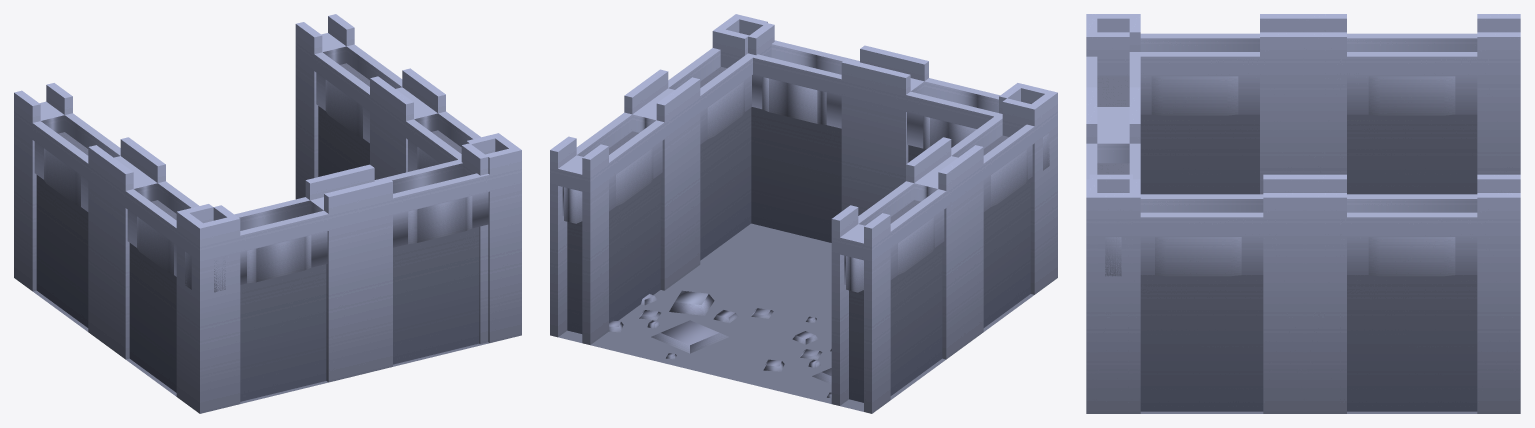
File: Tile_14.glb
3 renders of one model, left to right at view 1: azimuth 30°, elevation 25°; view 2: azimuth 150°, elevation 25°; view 3: azimuth 270°, elevation 25°, orthographic. The views are drawn at different scales.
Parts seen in each view (by area): view 1: tile_14; view 2: tile_14; view 3: tile_14.
Part boxes in pixels (left/top/right/bottom): tile_14: left=14, top=14, right=521, bottom=413; tile_14: left=550, top=14, right=1057, bottom=413; tile_14: left=1086, top=14, right=1520, bottom=413.
Size of the model in its own units: 2 by 1.1 by 2.
10 materials, 10 textured.
